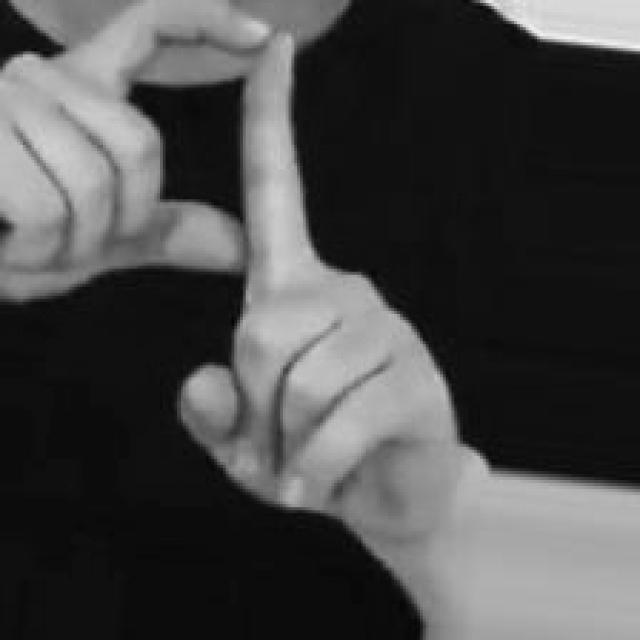D: (3, 0, 465, 549)
